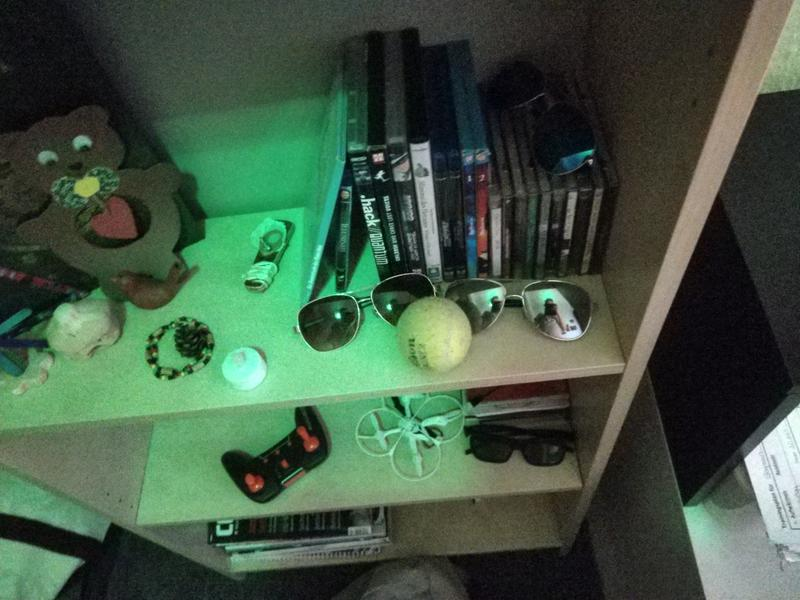Tennisball: (395, 294, 474, 375)
